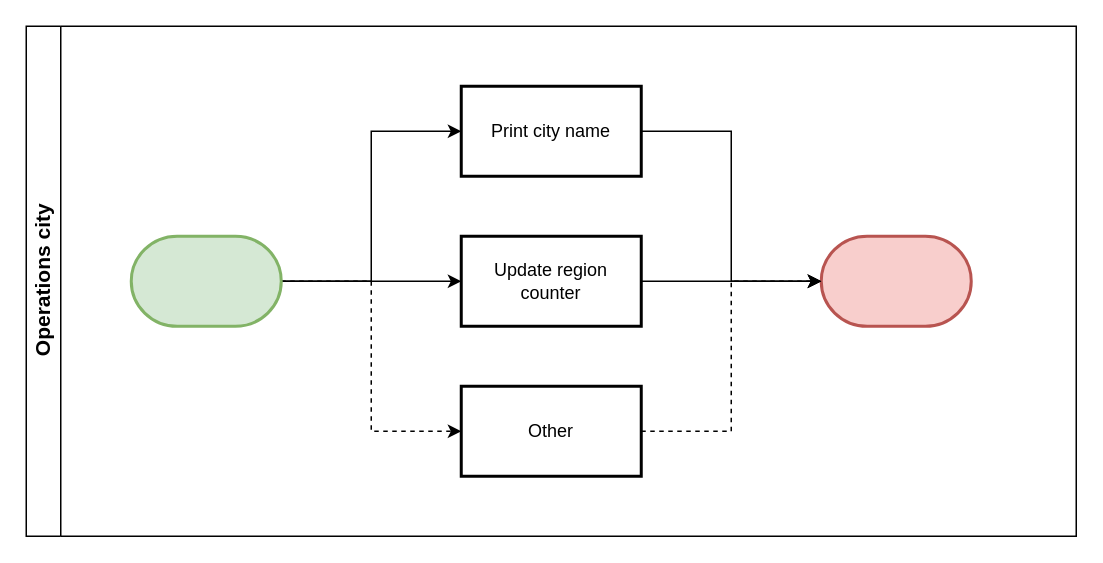
This 1103x563 diagram has some shape labels left out. The box of each missing label's shape, as (x1, y1, x2, y2) in pixels:
END: (819, 234, 972, 327)
START: (129, 234, 282, 327)
